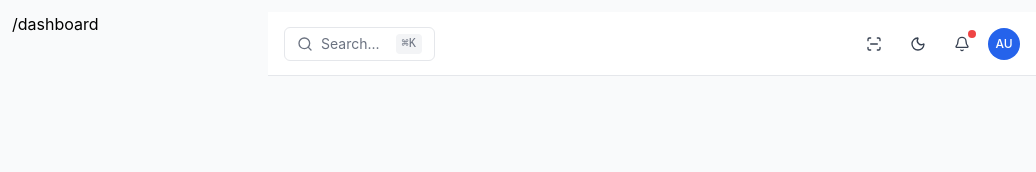
it: the header bell › takes the person to the alerts and clears the mark when clicked
What coordinates should you click on to do the following:
click the button named "Notifications: 1 new alerts"
I would click on:
 (962, 44)
Its box is left=944, top=26, right=980, bottom=62.
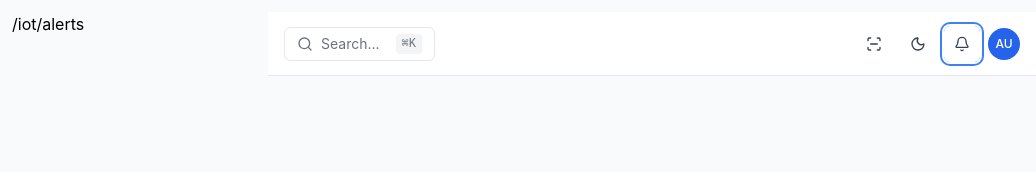
Check: the text with test id "where" reads "/iot/alerts", box left=12, top=14, right=84, bottom=34
